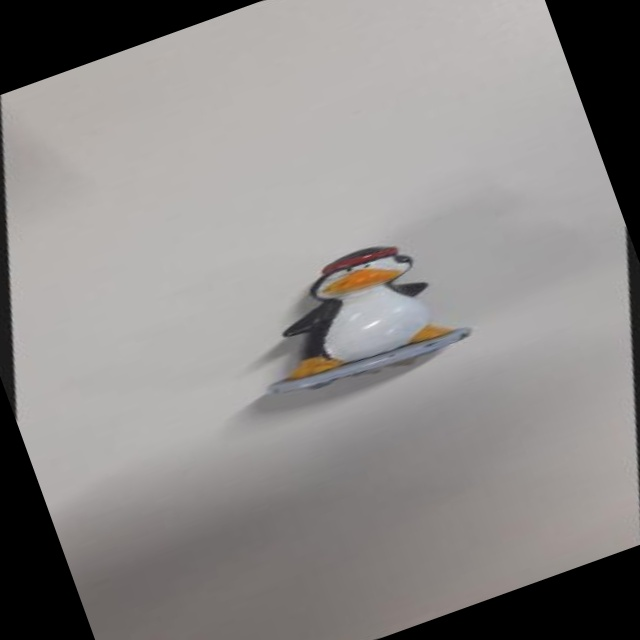Penguin: (186, 157, 545, 444)
